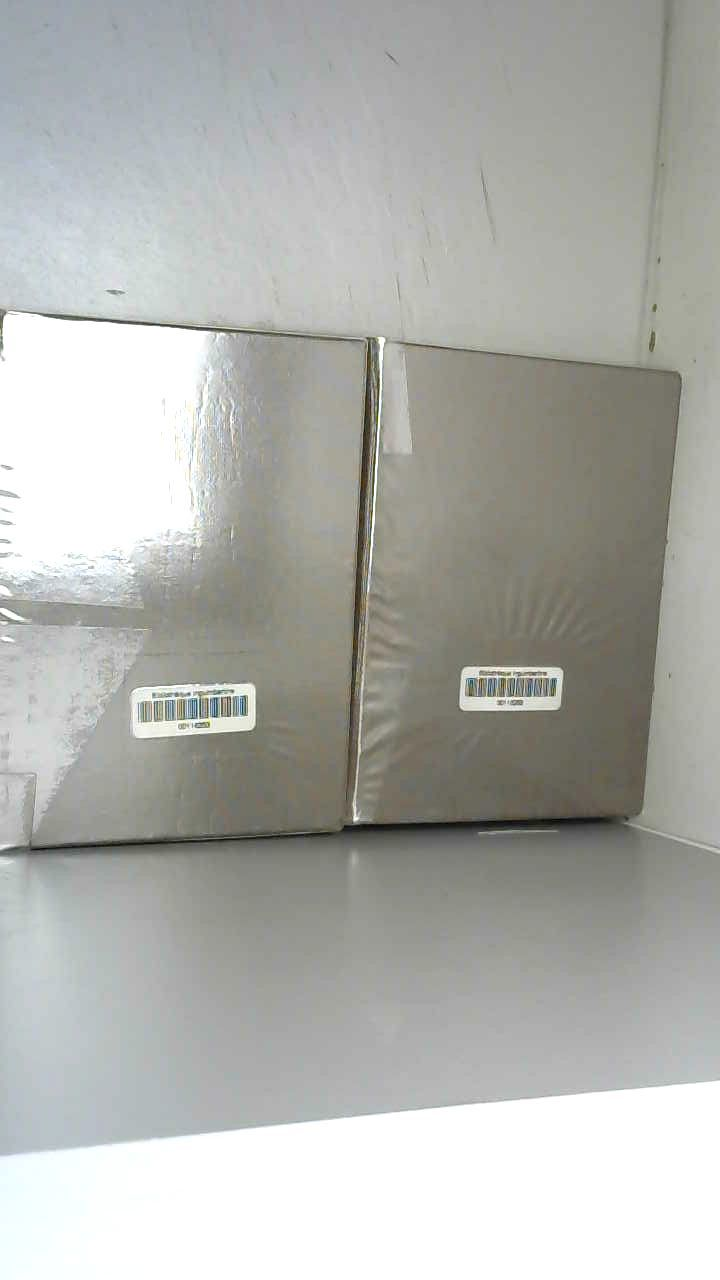book: (0, 281, 720, 886)
